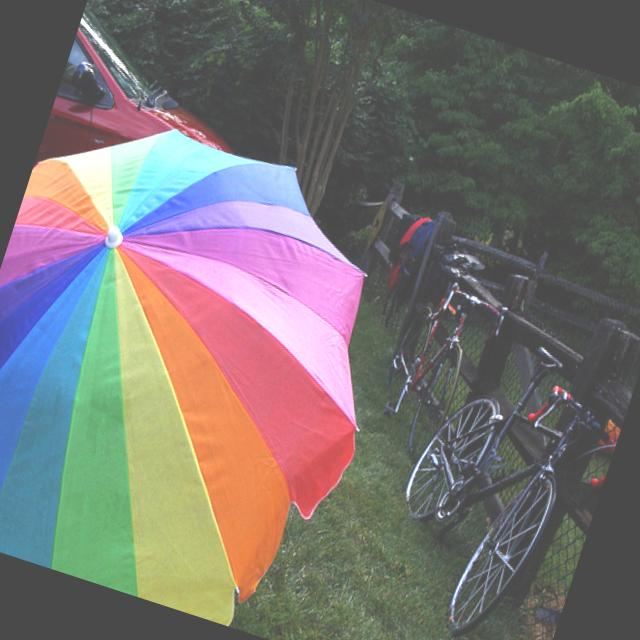Vehicle: (24, 0, 261, 251)
